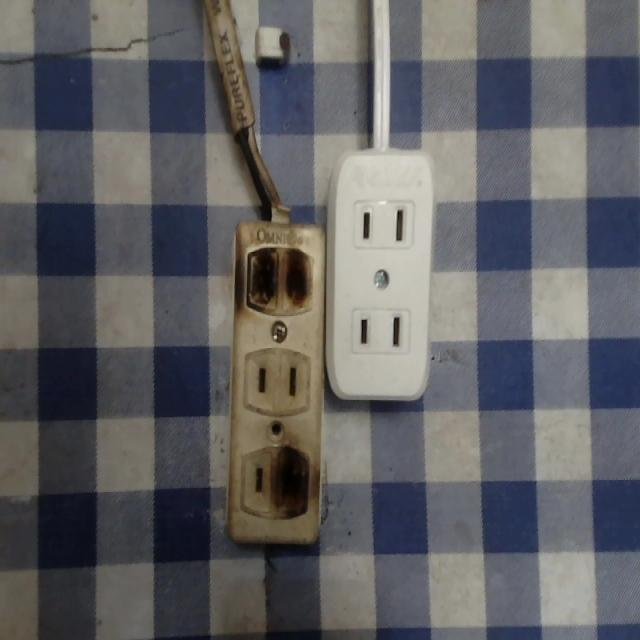-: (242, 240, 311, 316), (270, 446, 310, 522)
